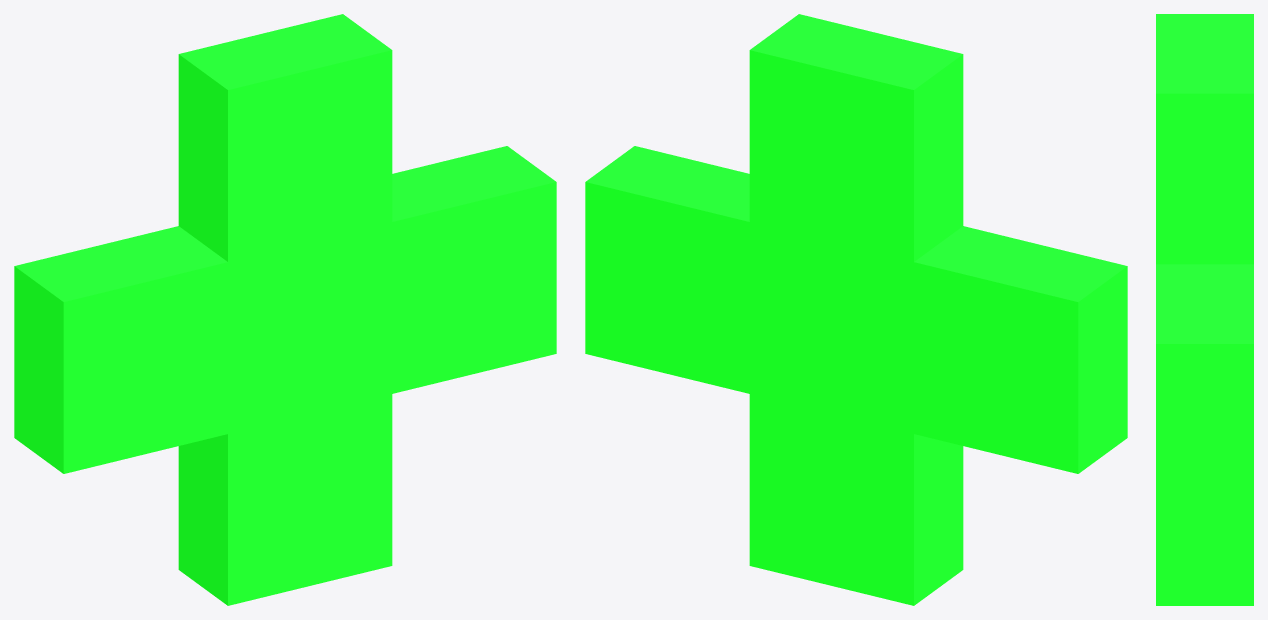
File: Healing Item.fbx
3 views of the same model, side by side, from view 1: azimuth 30°, elevation 25°; view 2: azimuth 150°, elevation 25°; view 3: azimuth 270°, elevation 25° (orthographic).
Parts seen in each view (by area): view 1: Healing_Item; view 2: Healing_Item; view 3: Healing_Item.
Boxes of the visible parts, <box> form: Healing_Item: <box>14,14,556,605</box>; Healing_Item: <box>585,14,1127,605</box>; Healing_Item: <box>1156,14,1253,605</box>.
Bounding box in the file's own units: 108 × 108 × 18.72.
